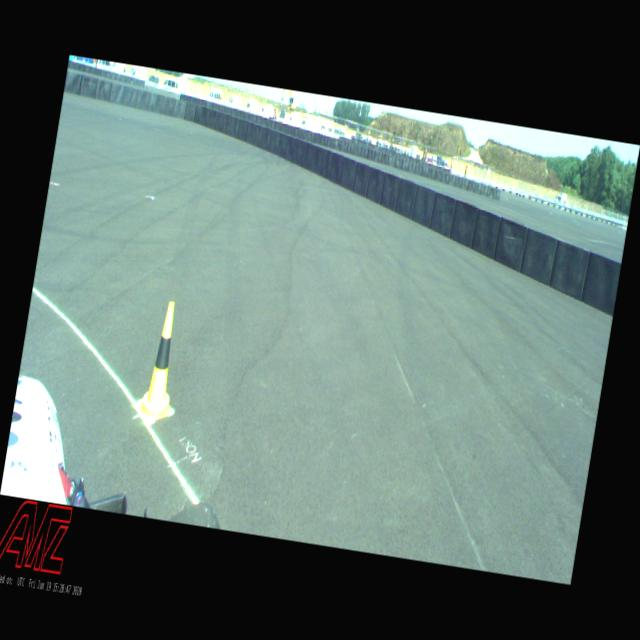yellow_cone: (134, 298, 188, 426)
